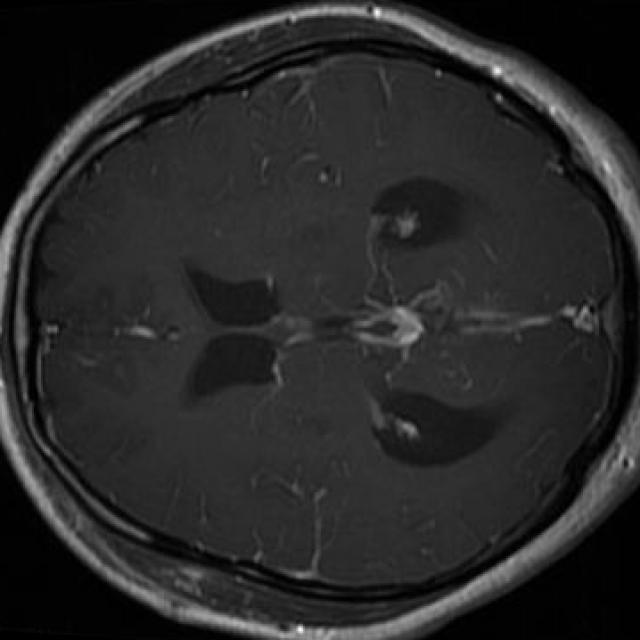glioma: (371, 390, 515, 465)
